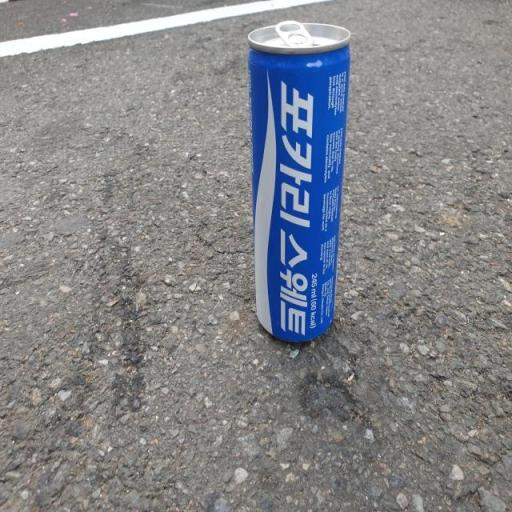metal: (230, 0, 366, 395)
